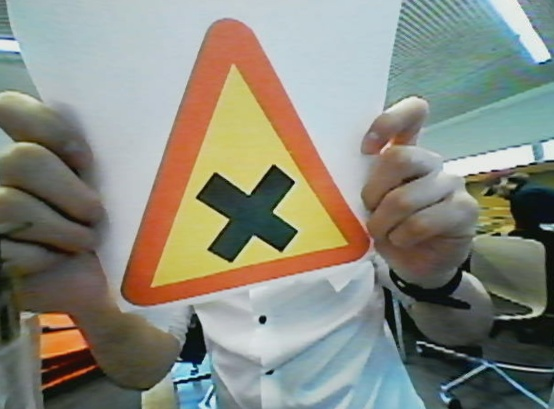junction: (104, 19, 371, 310)
